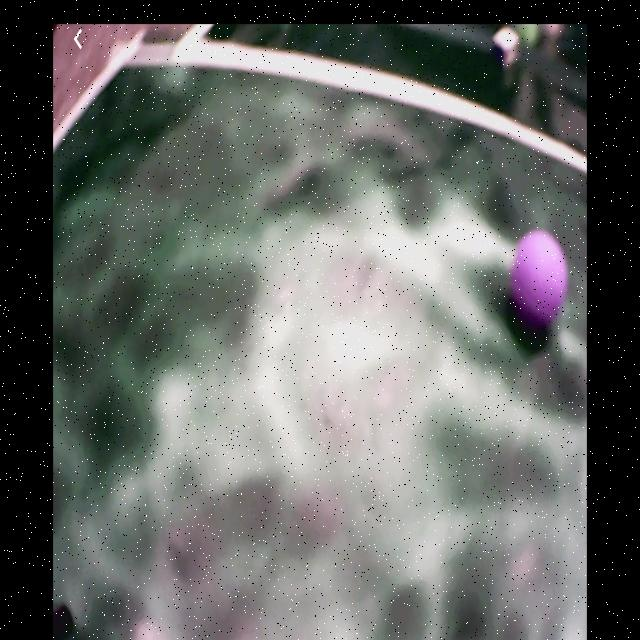ball: (510, 232, 568, 326)
